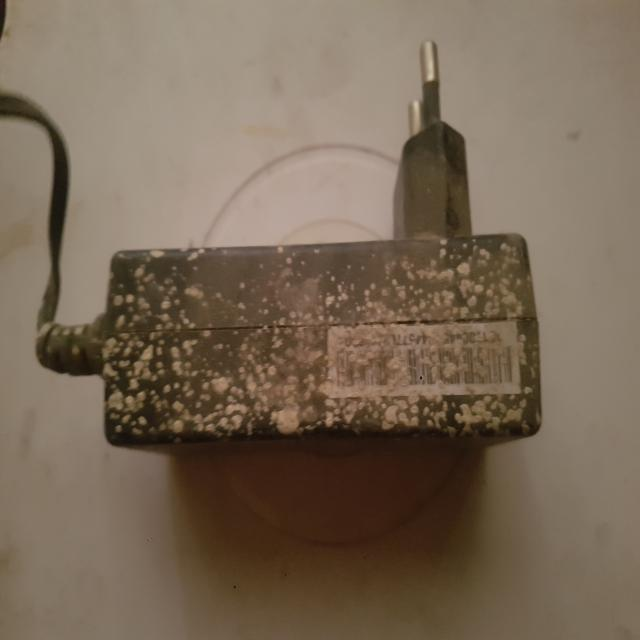electronic: (62, 36, 600, 558)
